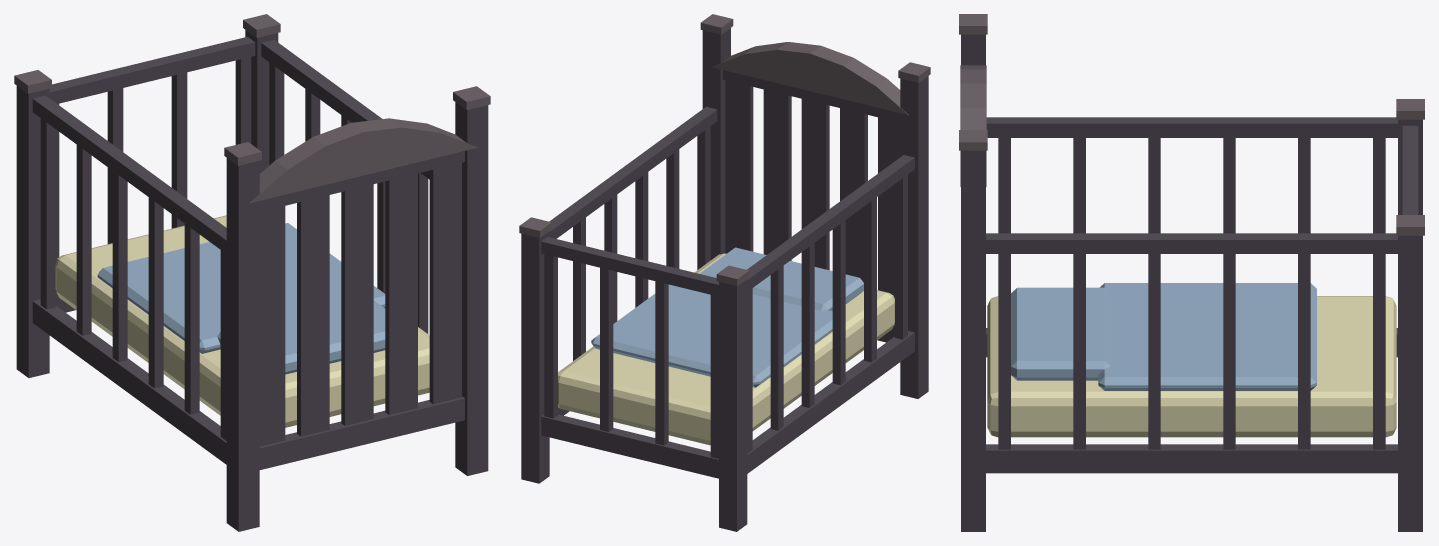
File: cuna.glb
3 renders of one model, left to right at view 1: azimuth 30°, elevation 25°; view 2: azimuth 150°, elevation 25°; view 3: azimuth 270°, elevation 25°, orthographic. The views are drawn at different scales.
Visible parts, largest first — view 1: Crib_Frame, Crib_Mattress, Crib_Bedding; view 2: Crib_Frame, Crib_Mattress, Crib_Bedding; view 3: Crib_Frame, Crib_Bedding, Crib_Mattress.
Boxes of the visible parts, box(x1,y1,x2,y2) form: Crib_Frame: box(14, 14, 490, 531); Crib_Mattress: box(55, 215, 429, 427); Crib_Bedding: box(97, 223, 385, 374); Crib_Frame: box(519, 14, 930, 531); Crib_Mattress: box(558, 253, 894, 445); Crib_Bedding: box(591, 247, 863, 387); Crib_Frame: box(959, 14, 1424, 531); Crib_Bedding: box(1011, 283, 1316, 390); Crib_Mattress: box(987, 296, 1396, 437).
Size of the model in its own units: 0.972 by 1.38 by 1.49.
